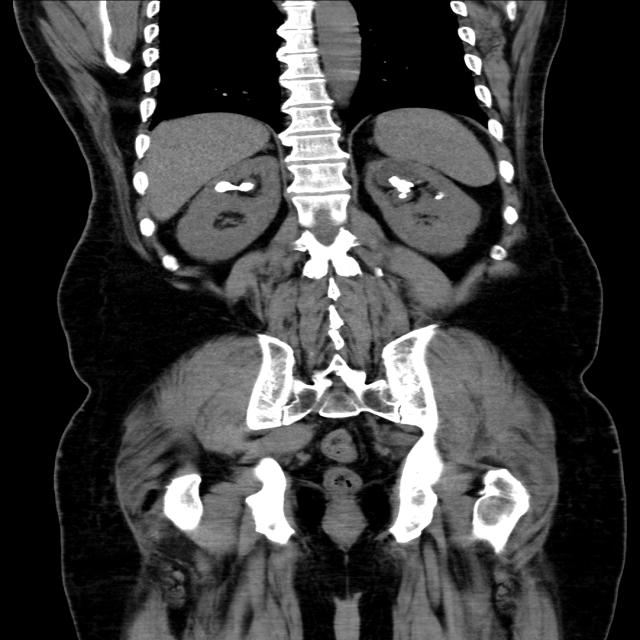kidneystone: (388, 176, 414, 197), (215, 181, 254, 192), (435, 192, 442, 200)
